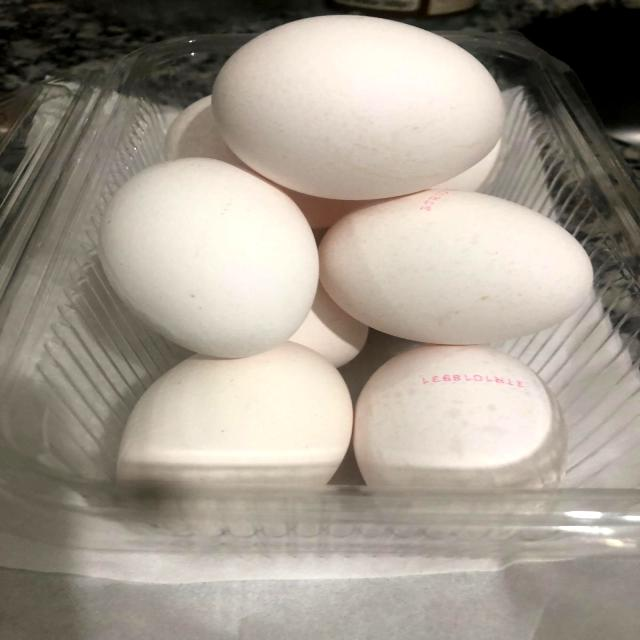egg: (208, 2, 523, 200), (314, 171, 614, 344), (92, 333, 357, 527), (353, 328, 595, 539), (91, 149, 324, 362)
